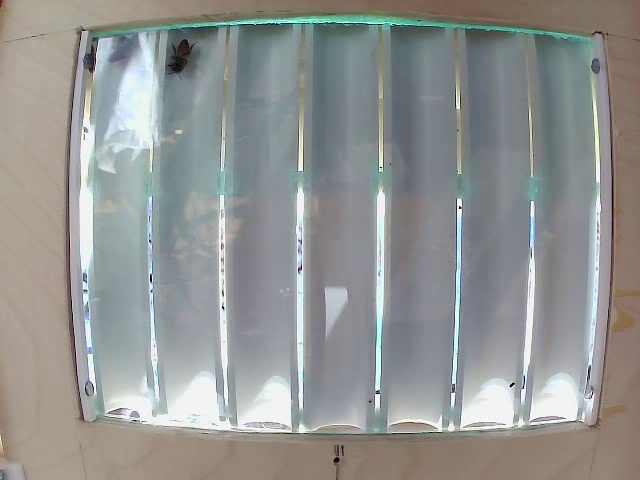bee: (164, 34, 211, 86)
